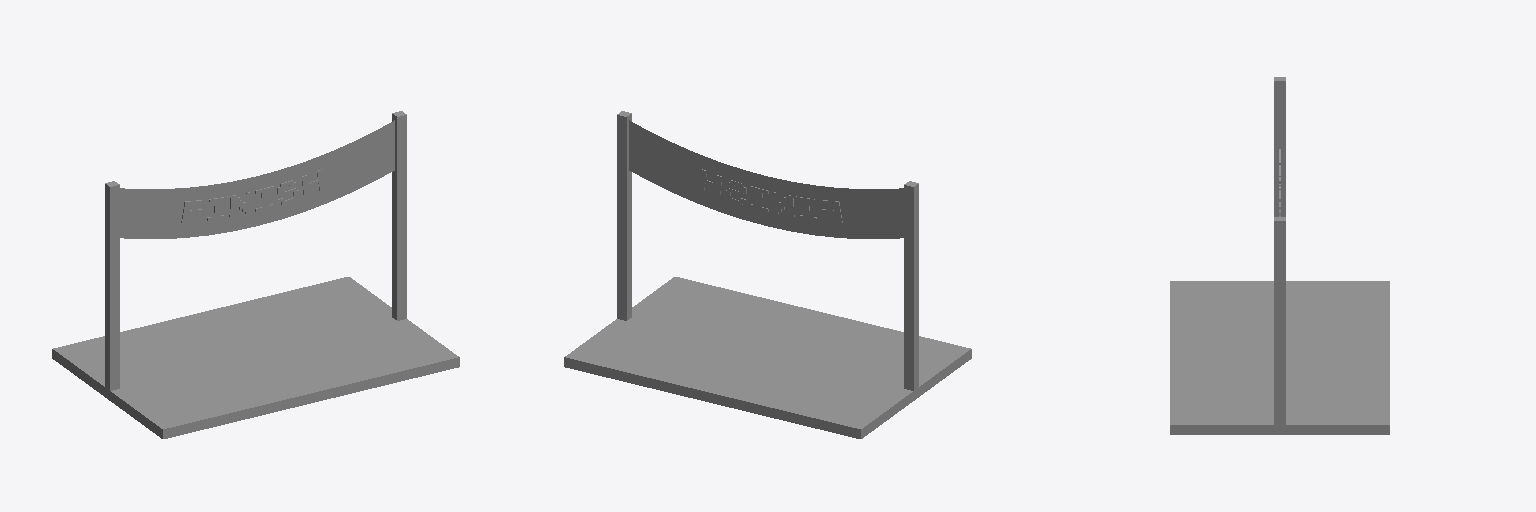
The model's file is finish_line.obj.
The picture shows the model from 3 angles: view 1: azimuth 30°, elevation 25°; view 2: azimuth 150°, elevation 25°; view 3: azimuth 270°, elevation 25°; orthographic projection.
Visible parts, largest first — view 1: Text_Mesh.004; view 2: Text_Mesh.004; view 3: Text_Mesh.004.
Boxes of the visible parts, x1,y1,x2,y2 form: Text_Mesh.004: [52, 111, 459, 438]; Text_Mesh.004: [564, 111, 971, 438]; Text_Mesh.004: [1170, 77, 1389, 434].
Size of the model in its own units: 6.2 by 4.27 by 4.